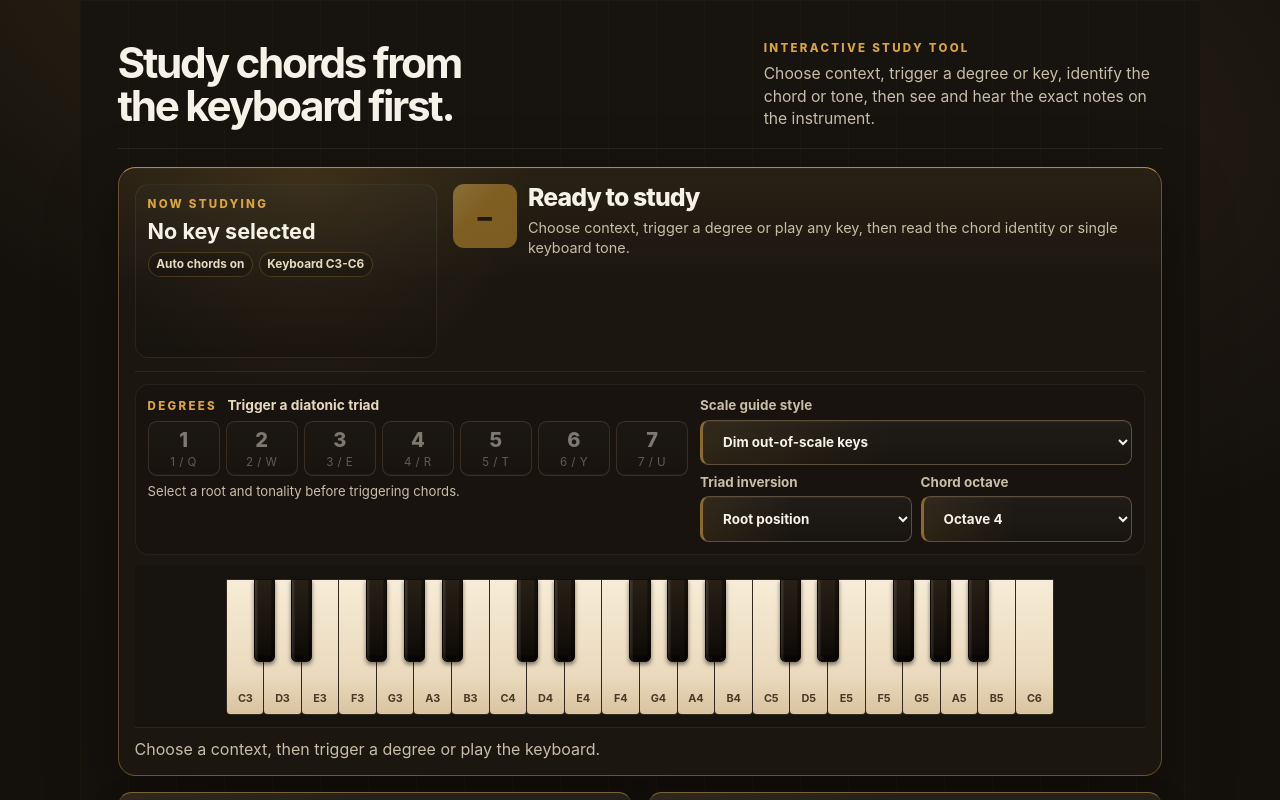
it: GenChord study UI › plays and highlights a single keyboard tone when no musical context exists
The width and height of the screenshot is (1280, 800).
Click the button "C4" at x=508, y=647, box [490,579,527,714]
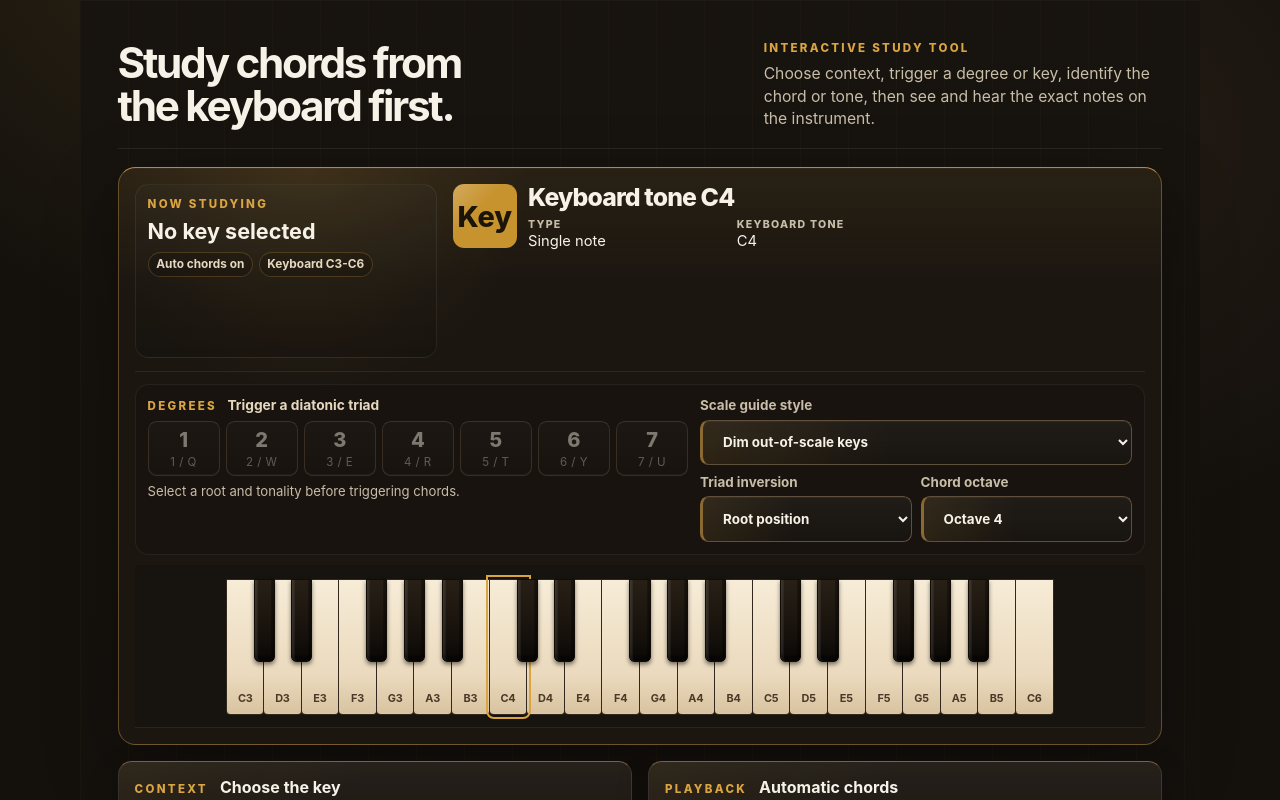
Expected: the text "Keyboard tone C4" is shown, [528,182,734,212]
Expected: the text "Single note" is shown, [528,232,606,250]
